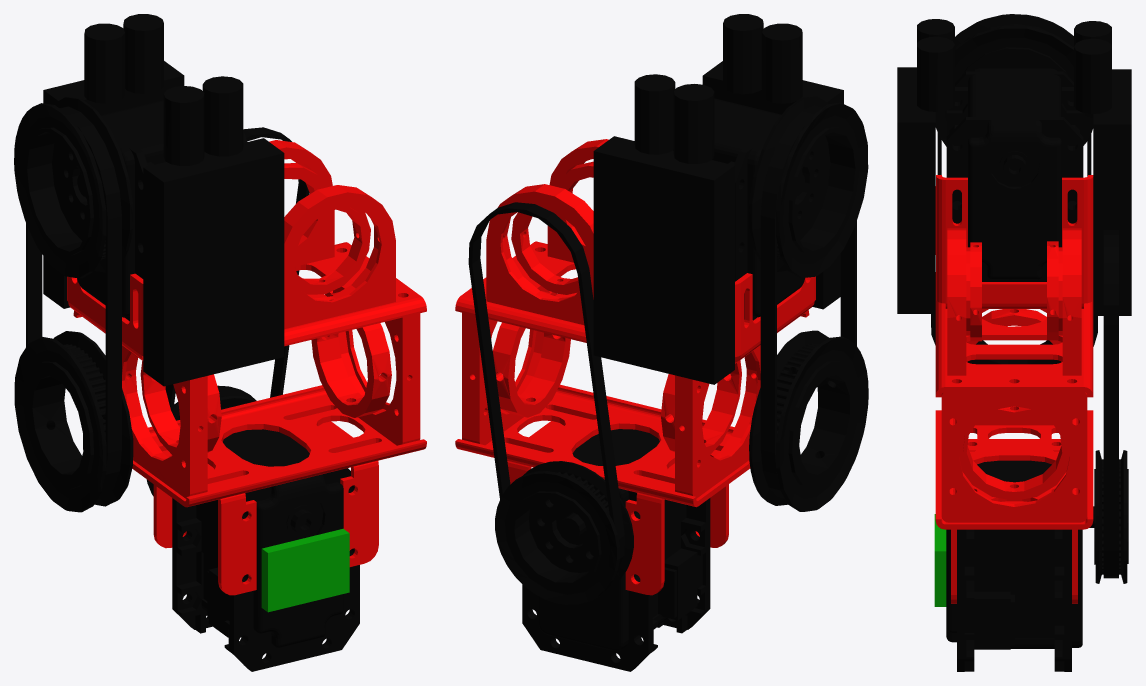
File: ducted_fan_gimbal_roll.dae
3 renders of one model, left to right at view 1: azimuth 30°, elevation 25°; view 2: azimuth 150°, elevation 25°; view 3: azimuth 270°, elevation 25°, orthographic. The views are drawn at different scales.
Visible parts, largest first — view 1: Red, Black_Metal, Black_Nonmetal, Green; view 2: Black_Metal, Black_Nonmetal, Red; view 3: Black_Metal, Red, Black_Nonmetal, Green.
Part boxes in pixels (<box>): Red: <box>67,140,426,595</box>; Black_Metal: <box>14,97,359,671</box>; Black_Nonmetal: <box>26,14,309,499</box>; Green: <box>261,528,349,612</box>; Black_Metal: <box>495,96,868,671</box>; Black_Nonmetal: <box>468,14,856,572</box>; Red: <box>455,139,815,595</box>; Black_Metal: <box>931,14,1128,671</box>; Red: <box>935,175,1093,603</box>; Black_Nonmetal: <box>897,19,1131,578</box>; Green: <box>934,514,946,606</box>.
Bounding box in the file's own units: 0.0922 × 0.061 × 0.1631.
